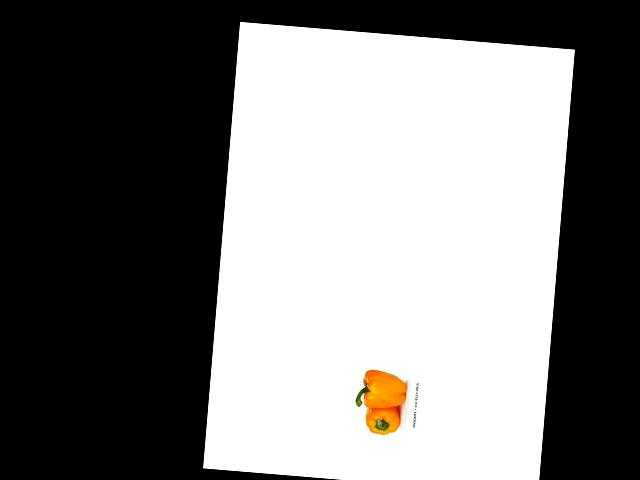bell_pepper: (362, 402, 403, 436)
